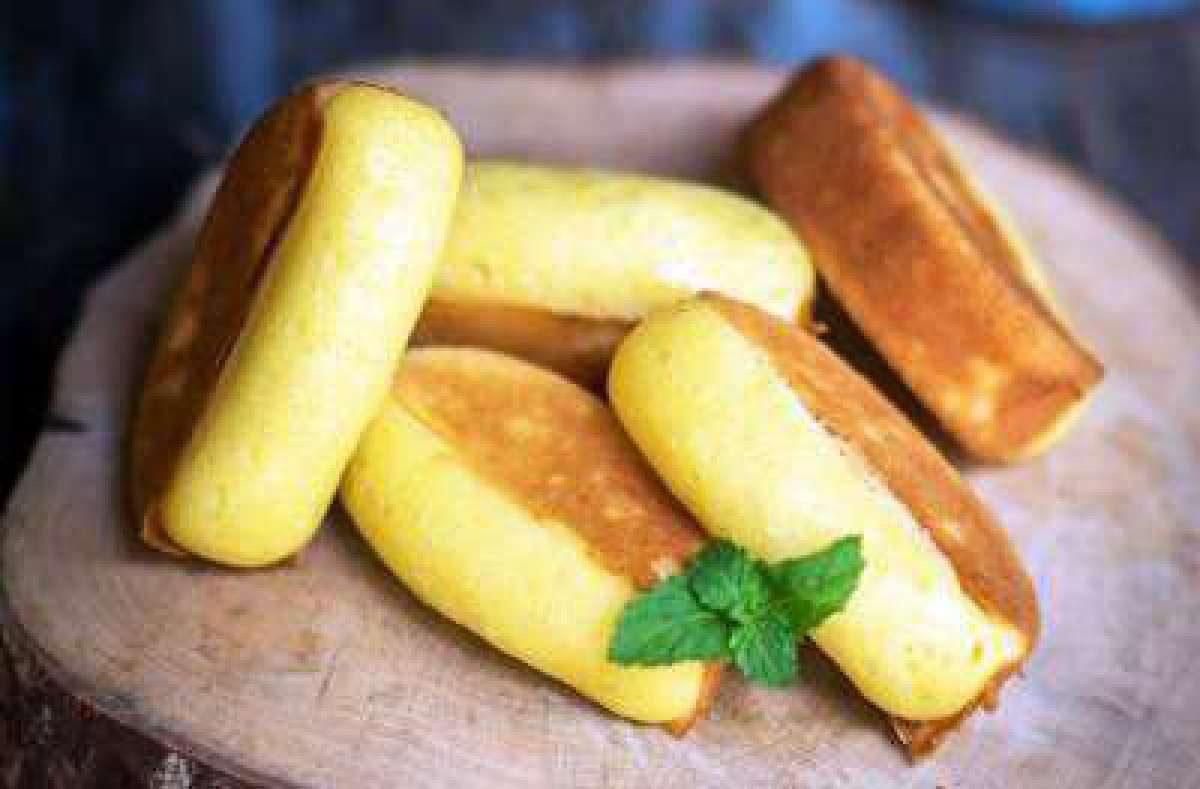pukis: (308, 329, 742, 742)
